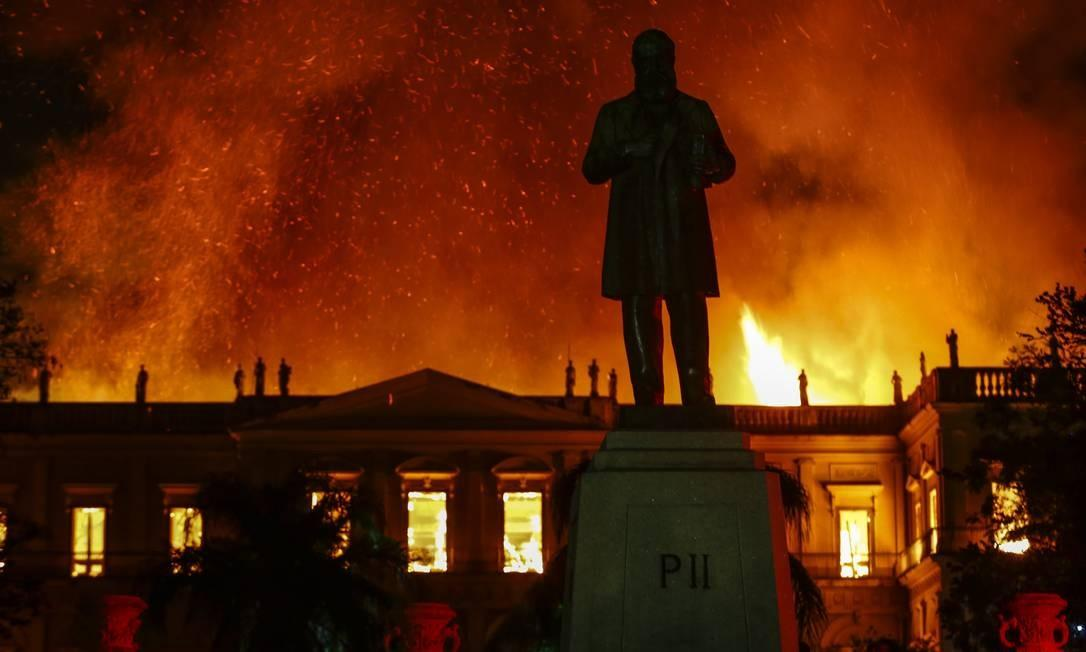fire: (400, 482, 550, 575), (742, 308, 878, 403)
smoke: (802, 32, 1002, 172)
